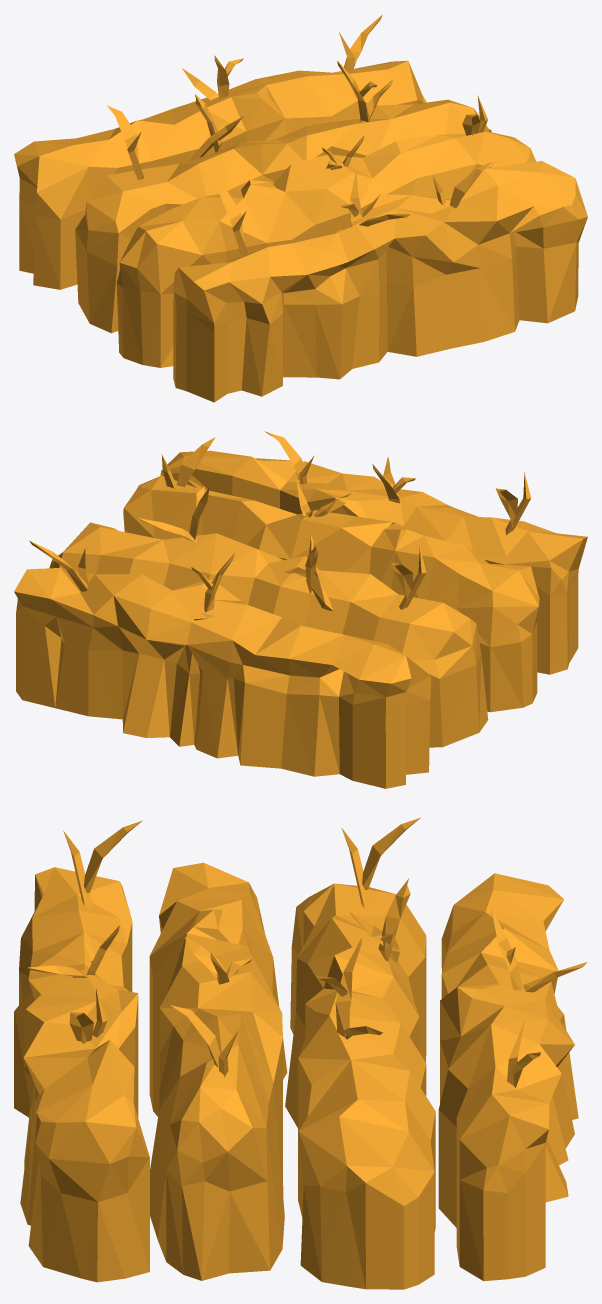
Rendered from SM_Wheat_Sprout_Square_1x1m_A.fbx.
3 views of the same model, one above another, from view 1: azimuth 30°, elevation 25°; view 2: azimuth 150°, elevation 25°; view 3: azimuth 270°, elevation 25° (orthographic). The views are drawn at different scales.
Parts seen in each view (by area): view 1: wheat-sprout-square-1x1m-a; view 2: wheat-sprout-square-1x1m-a; view 3: wheat-sprout-square-1x1m-a.
Boxes of the visible parts, bbox=[...] form: wheat-sprout-square-1x1m-a: bbox=[14, 15, 587, 402]; wheat-sprout-square-1x1m-a: bbox=[14, 431, 587, 788]; wheat-sprout-square-1x1m-a: bbox=[14, 817, 587, 1289].
Size of the model in its own units: 1.18 by 0.502 by 1.03.
